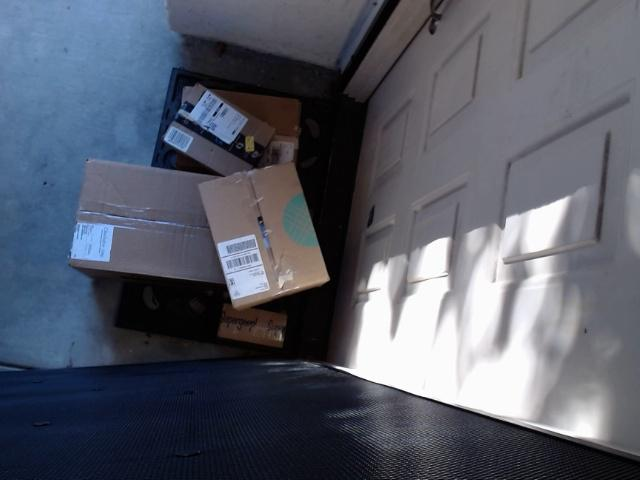box: (66, 140, 345, 303), (152, 57, 320, 193), (194, 164, 345, 292), (164, 83, 285, 177), (202, 287, 325, 371)
